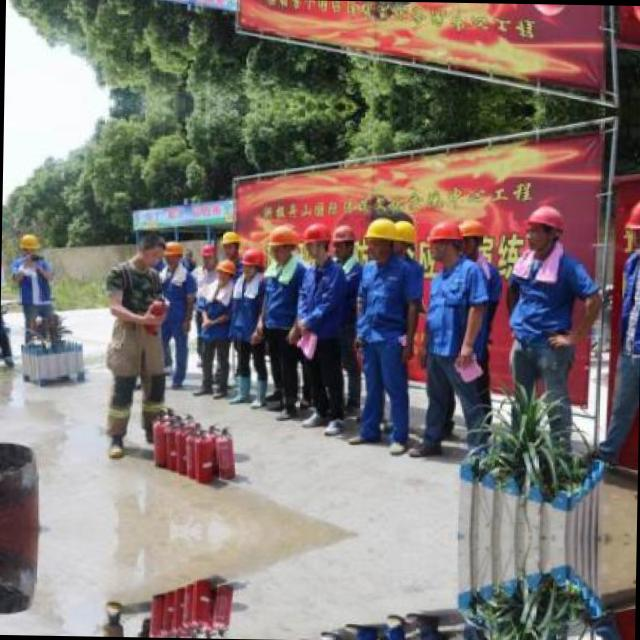helmet: (521, 200, 562, 253), (361, 212, 396, 262), (426, 218, 459, 266), (265, 222, 298, 263), (301, 222, 333, 264), (454, 216, 484, 259), (392, 216, 417, 256), (625, 196, 640, 256), (332, 223, 354, 260), (240, 244, 264, 277), (526, 4, 568, 22), (158, 238, 182, 266), (214, 255, 237, 283), (16, 232, 42, 256), (218, 228, 238, 255), (198, 244, 214, 269), (628, 5, 640, 28)
